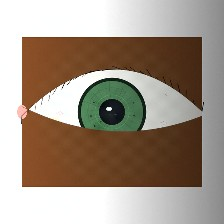pinguecula_lesion: (29, 104, 71, 138)
